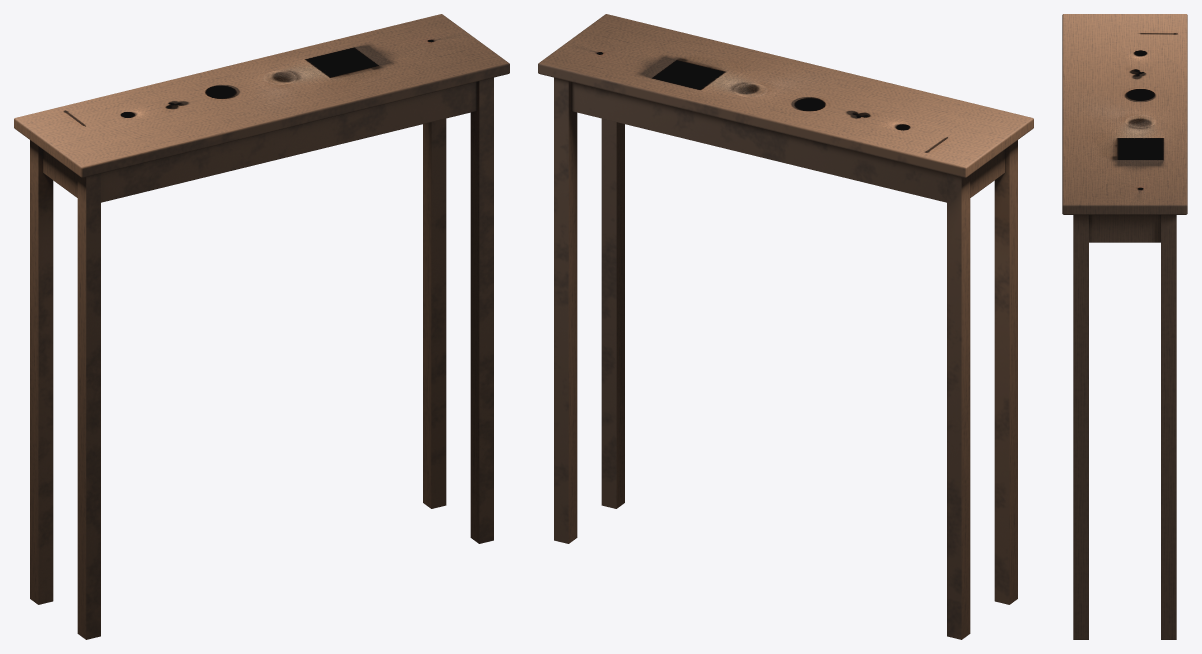
Rendered from 512_hook.glb.
3 views of the same model, side by side, from view 1: azimuth 30°, elevation 25°; view 2: azimuth 150°, elevation 25°; view 3: azimuth 270°, elevation 25° (orthographic). The views are drawn at different scales.
Parts seen in each view (by area): view 1: Table; view 2: Table; view 3: Table.
Part boxes in pixels (x1,y1,x2,y2): Table: (14, 14, 509, 639); Table: (538, 14, 1033, 639); Table: (1062, 14, 1187, 639).
Size of what is drawn, in the model's own units: 2.9 by 3.1 by 0.8.
1 material, 1 textured.
